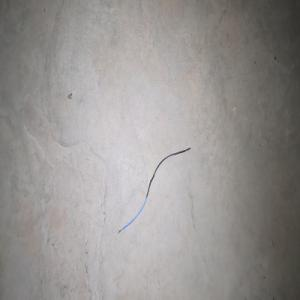Wire: (117, 147, 190, 233)
